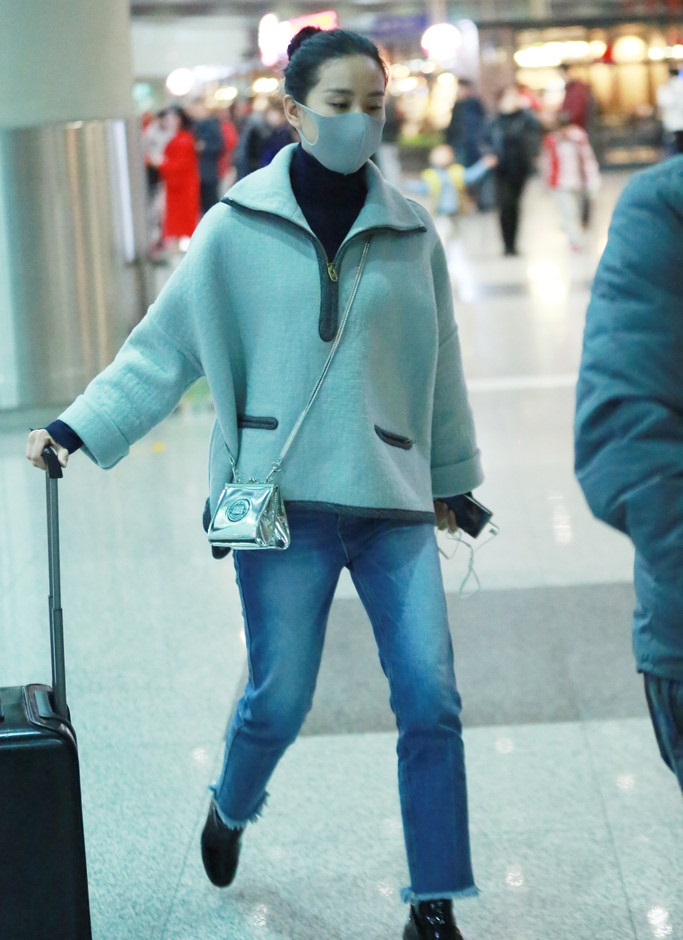face_mask: (305, 56, 384, 177)
